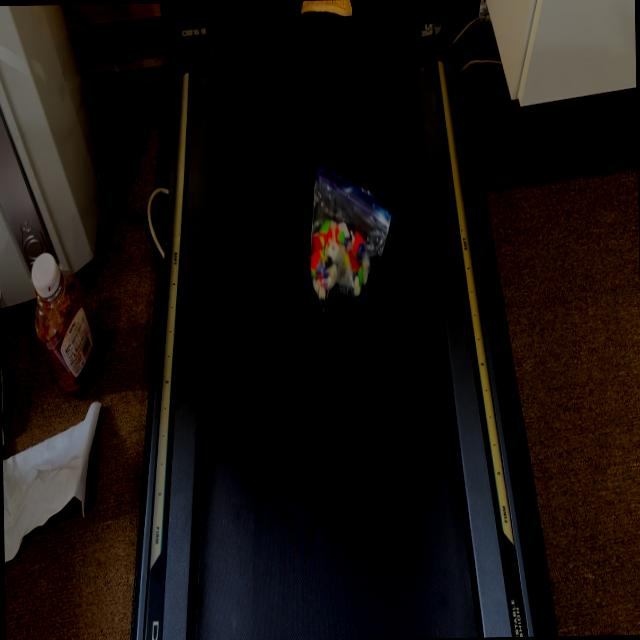Trash: (306, 162, 395, 314)
